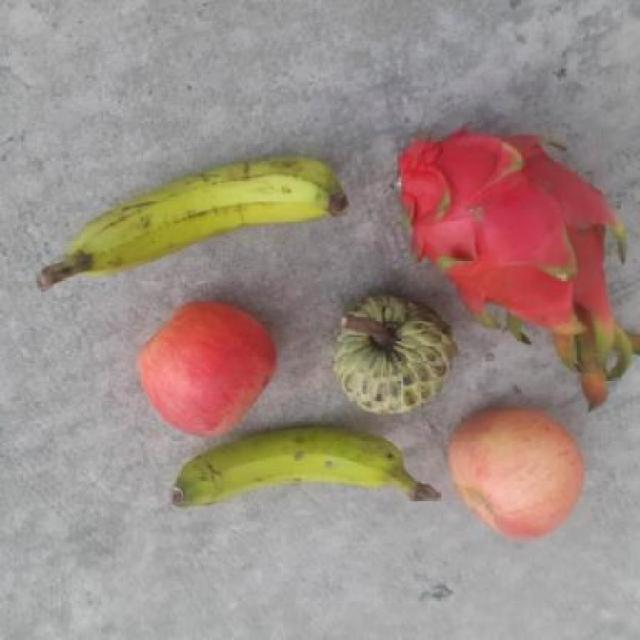apple: (136, 299, 278, 439), (447, 406, 587, 542)
banana: (36, 151, 361, 291), (169, 428, 443, 509)
dragon fruit: (396, 120, 639, 412)
sugar apple: (332, 292, 456, 416)
